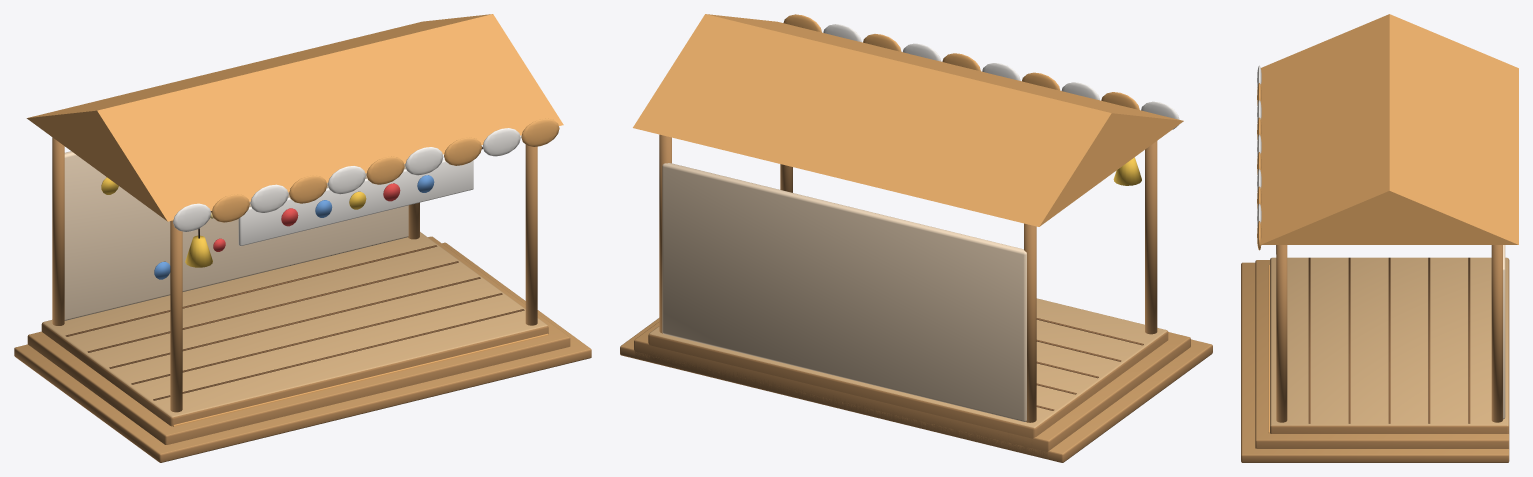
File: festival-stage.glb
3 views of the same model, side by side, from view 1: azimuth 30°, elevation 25°; view 2: azimuth 150°, elevation 25°; view 3: azimuth 270°, elevation 25° (orthographic). The views are drawn at different scales.
Visible parts, largest first — view 1: stage; view 2: stage; view 3: stage.
Boxes of the visible parts, x1,y1,x2,y2 form: stage: (14, 14, 591, 462); stage: (620, 14, 1212, 462); stage: (1241, 14, 1518, 462).
Bounding box in the file's own units: 5.72 × 3.66 × 3.48.
